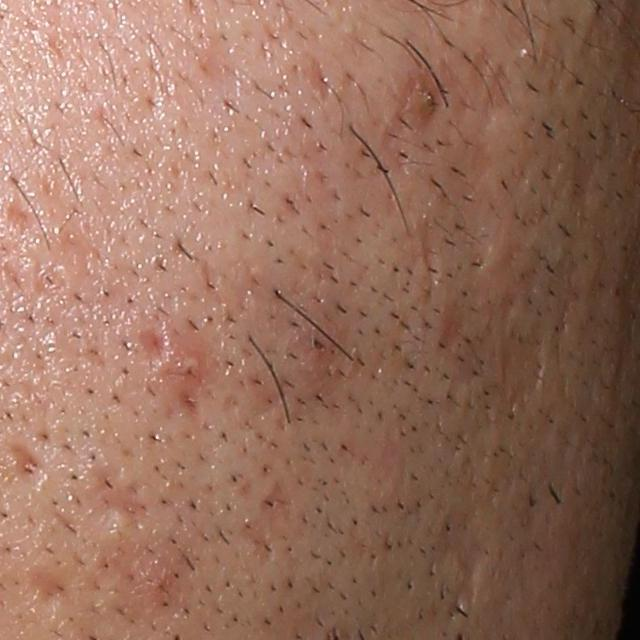atrophic_scar: (236, 475, 301, 568), (494, 334, 548, 411), (90, 472, 145, 535), (455, 199, 497, 270), (26, 566, 79, 618), (445, 544, 484, 613), (378, 115, 416, 175), (8, 445, 50, 491), (485, 65, 514, 123), (311, 50, 337, 107), (418, 224, 440, 287), (6, 199, 43, 233), (139, 328, 170, 362)
papule: (169, 344, 209, 389)
